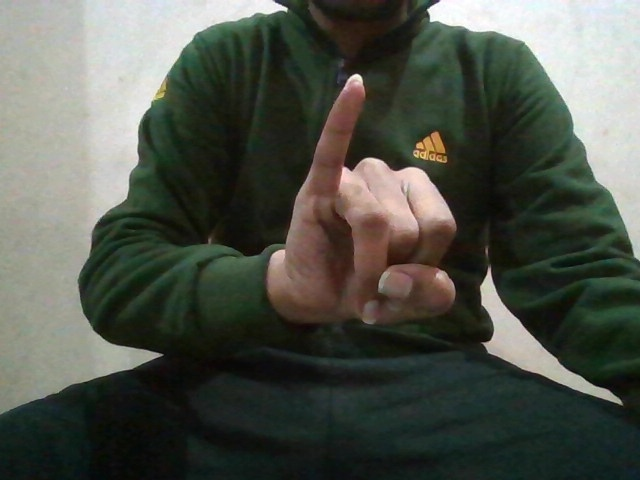I: (277, 67, 467, 336)
